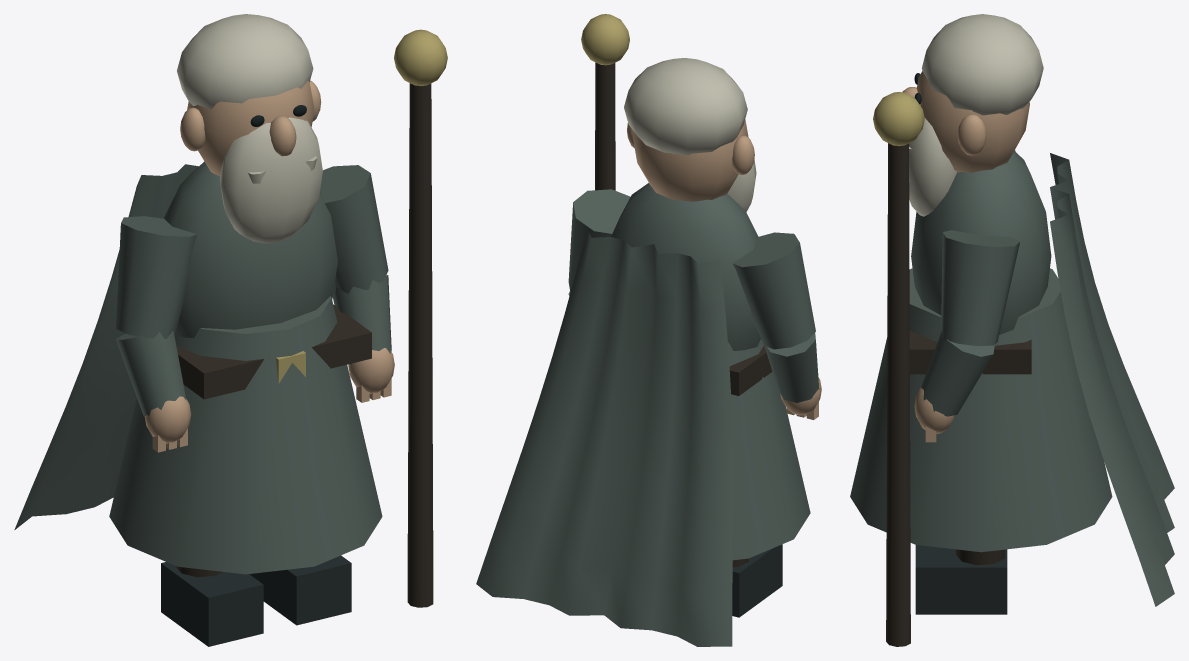
The model's file is elder.glb.
The picture shows the model from 3 angles, left to right: view 1: azimuth 30°, elevation 25°; view 2: azimuth 150°, elevation 25°; view 3: azimuth 270°, elevation 25°; orthographic projection. The views are drawn at different scales.
Visible parts, largest first — view 1: body, head, cape, armL, armR, legL, legR; view 2: cape, body, head, armL, armR, legL; view 3: body, cape, head, armR, legR.
Boxes of the visible parts, x1,y1,x2,y2 form: body: (109, 29, 447, 607); head: (177, 14, 322, 243); cape: (14, 164, 198, 529); armL: (116, 216, 196, 452); armR: (320, 165, 394, 402); legL: (161, 562, 263, 646); legR: (249, 555, 351, 625); cape: (476, 228, 733, 646); body: (581, 14, 810, 560); head: (624, 58, 756, 211); armL: (732, 232, 821, 419); armR: (568, 189, 630, 295); legL: (732, 544, 782, 617); body: (850, 92, 1112, 646); cape: (1050, 153, 1174, 606); head: (902, 14, 1043, 216); armR: (914, 230, 1019, 442); legR: (915, 545, 1007, 614).
Size of the model in its own units: 1.08 by 2.02 by 1.06.
